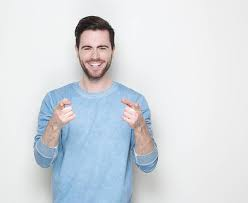hand: (111, 95, 150, 131)
